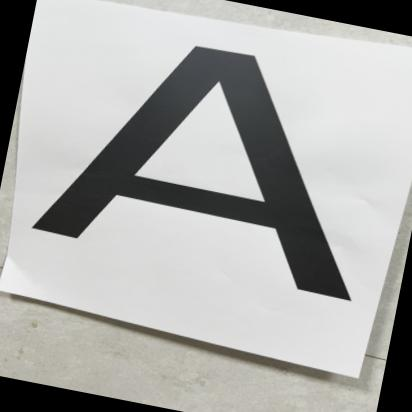seat: (16, 10, 412, 322)
